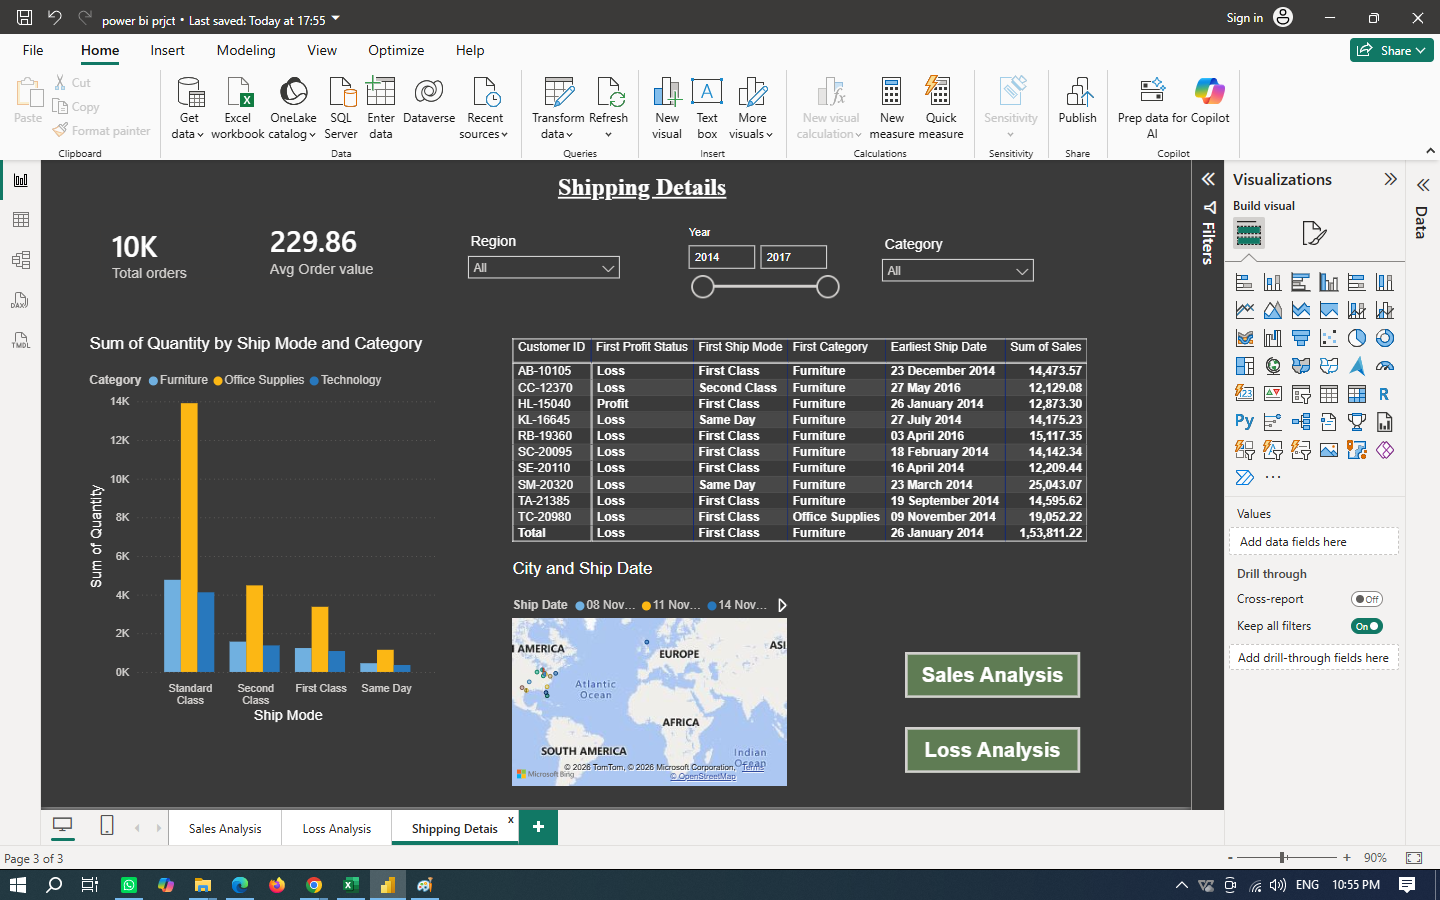

The dashboard page shown, as its layout file describes it:
{"tool":"powerbi","page":{"name":"Shipping Detais","canvas":[1280,720],"ordinal":2},"visuals":[{"type":"clusteredColumnChart","fields":{"Category":["Cleared Data.Ship Mode"],"Y":["Sum(Cleared Data.Quantity)"],"Series":["Cleared Data.Category"]},"box":[48.8,193.8,398.8,437.5],"z":0},{"type":"cardVisual","fields":{"Data":["Measure Table.Total orders"]},"box":[48.8,56.2,171.5,93.4],"z":1000},{"type":"cardVisual","fields":{"Data":["Measure Table.Avg Order value"]},"box":[225,46.2,213.8,103.8],"z":2000},{"type":"pivotTable","fields":{"Rows":["Cleared Data.Customer ID"],"Values":["Min(Cleared Data.Profit Status)","Min(Cleared Data.Ship Mode)","Min(Cleared Data.Category)","Min(Cleared Data.Ship Date)","Sum(Cleared Data.Sales)"]},"box":[520,193.8,650,241.2],"z":3000},{"type":"textbox","box":[480,10,378.8,46.2],"z":4000},{"type":"slicer","fields":{"Values":["Cleared Data.Year"]},"box":[707.5,68.8,188.8,125],"z":5000},{"type":"slicer","fields":{"Values":["Cleared Data.Region"]},"box":[465,76.2,188.8,85],"z":6000},{"type":"slicer","fields":{"Values":["Cleared Data.Category"]},"box":[926.2,80,188.8,70],"z":7000},{"type":"map","fields":{"Category":["Cleared Data.City"],"Series":["Cleared Data.Ship Date"]},"box":[520,443.8,315,258.8],"z":8000},{"type":"textbox","box":[1125,40,155,150],"z":9000},{"type":"actionButton","box":[961.2,547.5,195,51.2],"z":10000},{"type":"actionButton","box":[961.2,631.2,195,51.2],"z":11000}]}

Visuals, with their boxes on the page's 1280x720 design canvas (x1, y1, x2, y2). These are canvas units, not pixel positions in the 1440x900 screenshot, which may show the page scaled, cropped or inside an application window:
clusteredColumnChart - Cleared Data.Ship Mode x Sum(Cleared Data.Quantity): x1=49 y1=194 x2=448 y2=631
cardVisual - Measure Table.Total orders: x1=49 y1=56 x2=220 y2=150
cardVisual - Measure Table.Avg Order value: x1=225 y1=46 x2=439 y2=150
pivotTable - Cleared Data.Customer ID x Min(Cleared Data.Profit Status): x1=520 y1=194 x2=1170 y2=435
textbox: x1=480 y1=10 x2=859 y2=56
slicer - Cleared Data.Year: x1=708 y1=69 x2=896 y2=194
slicer - Cleared Data.Region: x1=465 y1=76 x2=654 y2=161
slicer - Cleared Data.Category: x1=926 y1=80 x2=1115 y2=150
map - Cleared Data.City x Cleared Data.Ship Date: x1=520 y1=444 x2=835 y2=703
textbox: x1=1125 y1=40 x2=1280 y2=190
actionButton: x1=961 y1=548 x2=1156 y2=599
actionButton: x1=961 y1=631 x2=1156 y2=682
